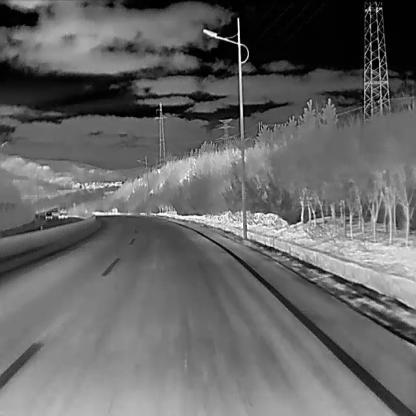car: (57, 198, 68, 219), (45, 210, 52, 218)
